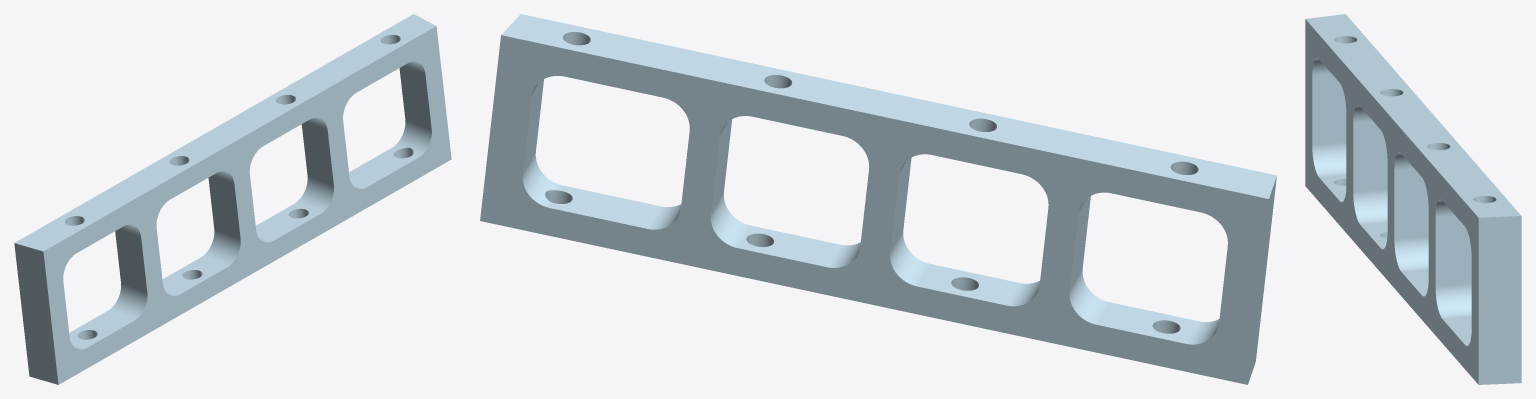
3 renders of one model, left to right at view 1: azimuth 30°, elevation 25°; view 2: azimuth 150°, elevation 25°; view 3: azimuth 270°, elevation 25°, orthographic. The views are drawn at different scales.
Parts seen in each view (by area): view 1: mesh3665, mesh3634, mesh3636, mesh3643, mesh3661, mesh3627, mesh3656, mesh3660, mesh3646, mesh3650, mesh3632, mesh3644 (+3 smaller); view 2: mesh3666, mesh3634, mesh3660, mesh3646, mesh3650, mesh3632, mesh3636, mesh3657, mesh3644, mesh3630, mesh3659, mesh3656 (+3 smaller); view 3: mesh3665, mesh3634, mesh3635, mesh3667, mesh3629, mesh3652, mesh3641, mesh3668, mesh3645, mesh3651, mesh3631, mesh3660 (+7 smaller).
Boxes of the visible parts, box(x1,y1,x2,y2) form: mesh3665: box(43, 26, 451, 384); mesh3634: box(15, 14, 435, 251); mesh3636: box(14, 243, 58, 384); mesh3643: box(115, 229, 147, 291); mesh3661: box(399, 65, 431, 128); mesh3627: box(301, 122, 333, 185); mesh3656: box(208, 175, 240, 238); mesh3660: box(349, 148, 417, 186); mesh3646: box(69, 311, 133, 347); mesh3650: box(162, 257, 226, 293); mesh3632: box(255, 204, 320, 240); mesh3644: box(108, 282, 147, 320); mesh3666: box(480, 35, 1268, 384); mesh3634: box(501, 14, 1276, 198); mesh3660: box(550, 185, 660, 228); mesh3646: box(1096, 302, 1198, 343); mesh3650: box(917, 264, 1019, 305); mesh3632: box(738, 225, 839, 266); mesh3636: box(1248, 176, 1276, 383); mesh3657: box(890, 231, 929, 286); mesh3644: box(1069, 269, 1109, 324); mesh3630: box(710, 192, 750, 247); mesh3659: box(522, 152, 562, 207); mesh3656: box(890, 157, 911, 251); mesh3665: box(1305, 19, 1478, 384); mesh3634: box(1306, 14, 1521, 217); mesh3635: box(1478, 216, 1521, 384); mesh3667: box(1435, 215, 1471, 286); mesh3629: box(1394, 168, 1428, 239); mesh3652: box(1353, 121, 1387, 192); mesh3641: box(1312, 74, 1346, 144); mesh3668: box(1435, 283, 1471, 318); mesh3645: box(1312, 142, 1346, 177); mesh3651: box(1353, 189, 1387, 224); mesh3631: box(1394, 236, 1428, 271); mesh3660: box(1443, 316, 1471, 344).
Size of the model in its own units: 0.0768 by 0.0289 by 0.0251.
